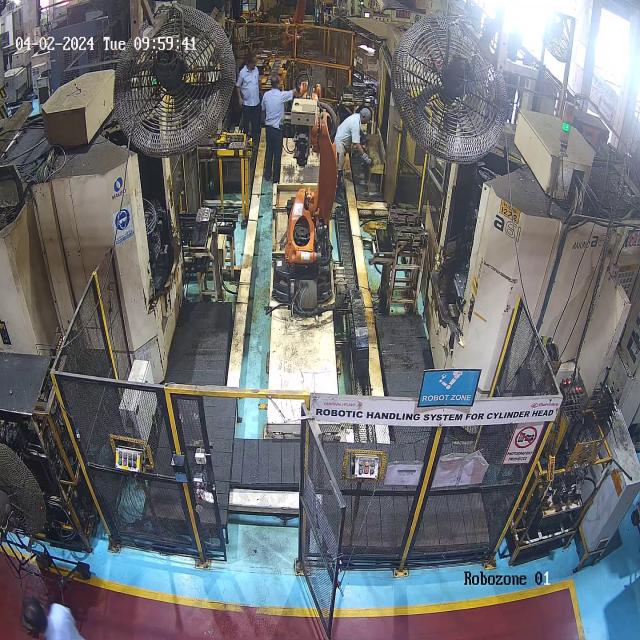person: (336, 106, 370, 205), (263, 72, 291, 184), (236, 52, 262, 147)
